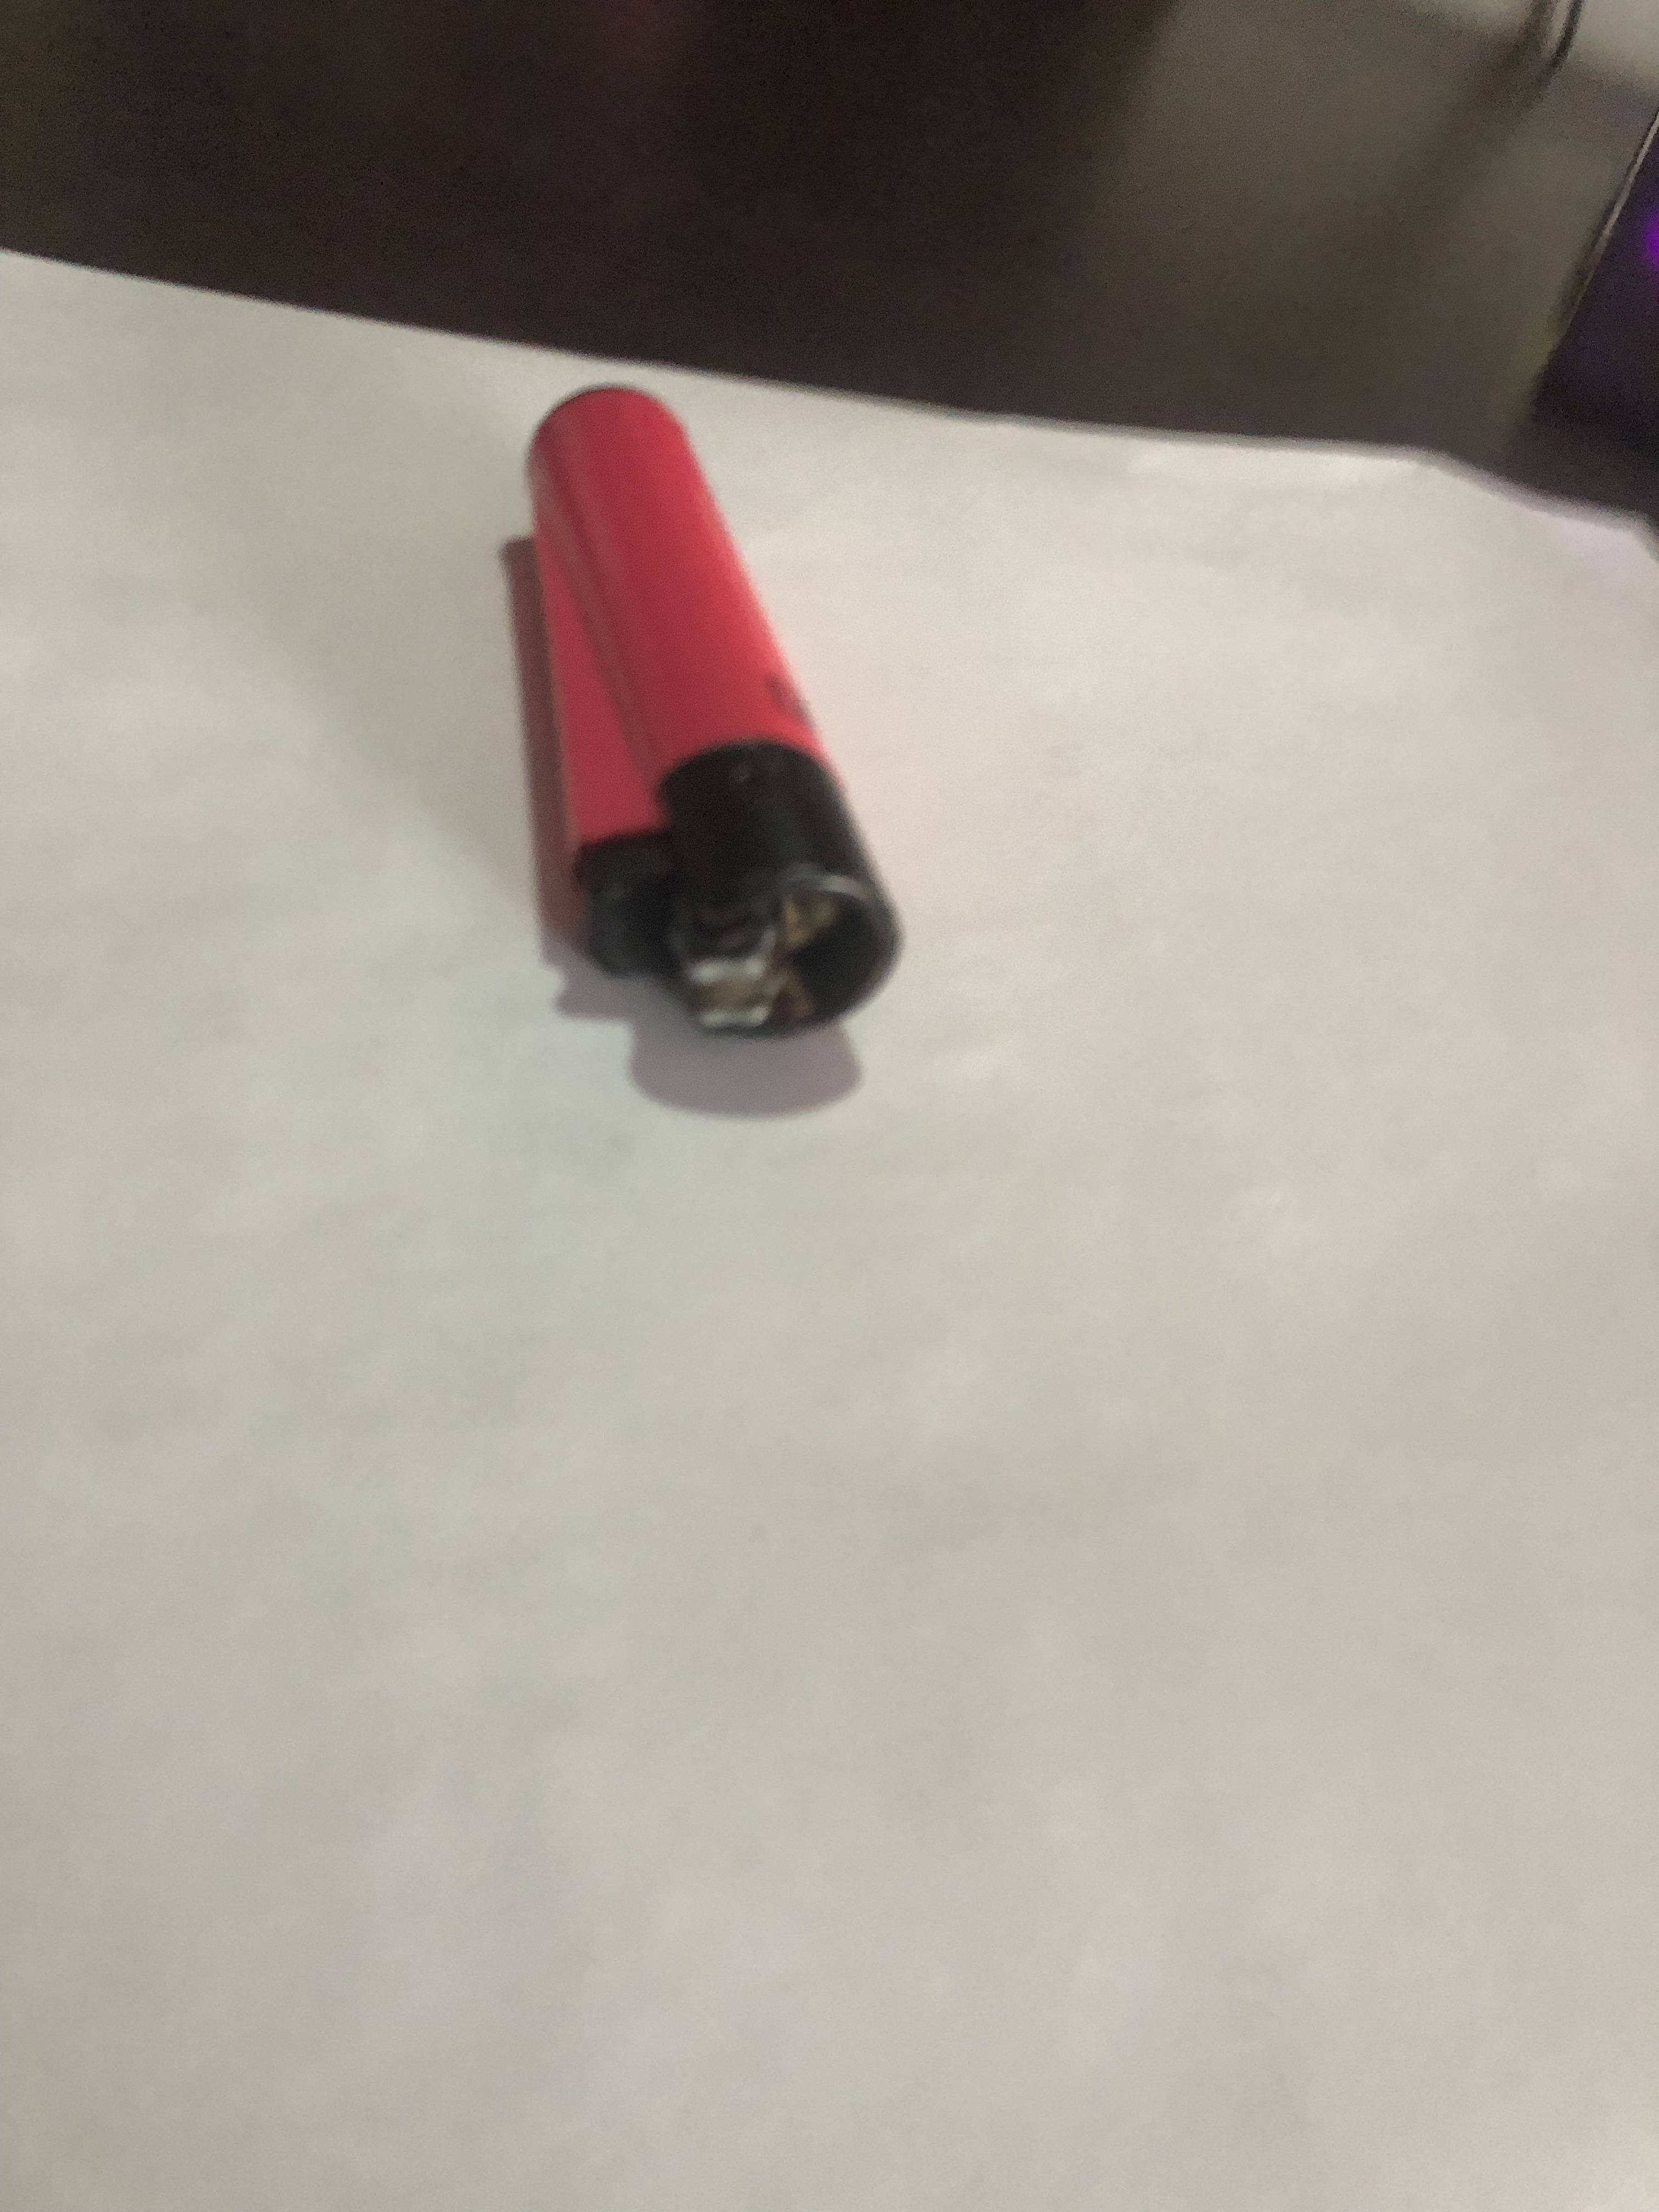Mechero: (430, 364, 915, 1120)
